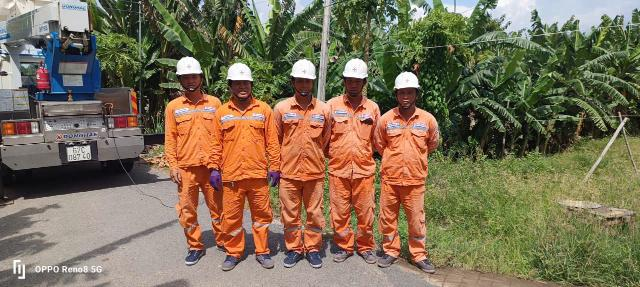gloves: (261, 166, 292, 194), (204, 169, 229, 194)
helmet: (385, 67, 431, 94), (167, 52, 209, 80), (335, 55, 374, 85), (283, 56, 322, 85), (224, 61, 263, 85)
shoes: (407, 245, 445, 279), (278, 240, 308, 274), (357, 243, 382, 274), (329, 240, 354, 268), (304, 244, 327, 274), (178, 244, 206, 267), (251, 245, 272, 275), (220, 250, 243, 273), (379, 250, 405, 269)
